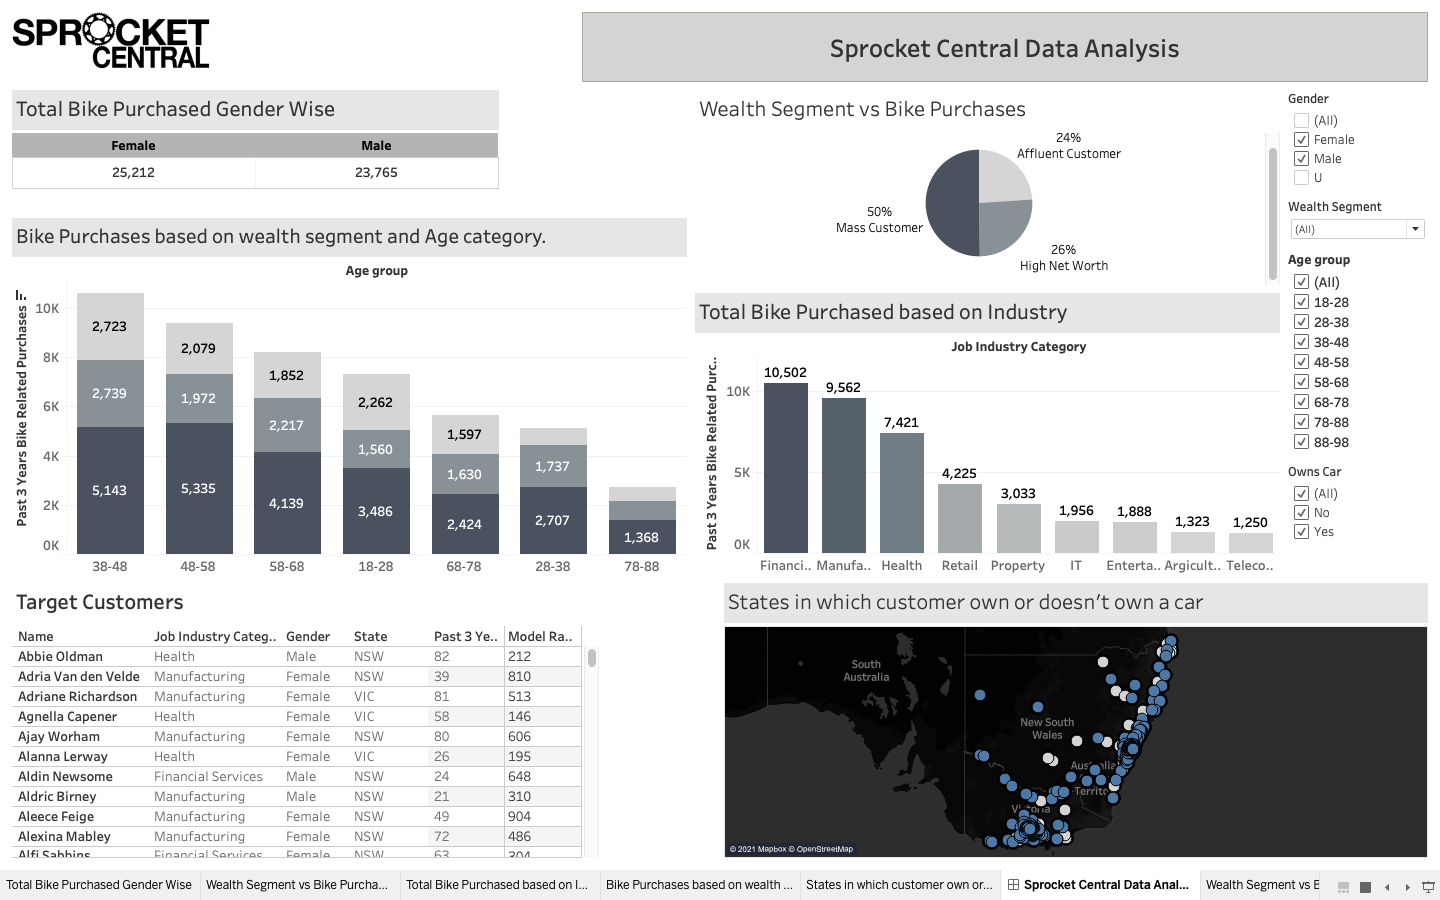

The dashboard page shown, as its layout file describes it:
{"tool":"tableau","page":{"name":"Sprocket Central Data Analysis","canvas":[1000,1000],"units":"permille","ordinal":0},"visuals":[{"type":"image","param":"/Users/sanjeevkulkarni/Downloads/sprocket_central_logo.png","box":[6.5,9.9,292.1,89.1]},{"type":"title","box":[298.6,9.9,694.9,89.1]},{"type":"worksheet","title":"Total Bike Purchased Gender Wise","mark":"Automatic","cols":["gender"],"box":[6.5,99,463.7,147.2]},{"type":"worksheet","title":"Wealth Segment vs Bike Purchases","mark":"Pie","box":[470.2,99,402.8,233.9]},{"type":"filter","title":"Total Bike Purchased Gender Wise","param":"[federated.18oul3g0qd69g010wdai21d3l7zf].[none:gender:nk]","box":[873.1,99,120.4,133.7]},{"type":"filter","title":"Wealth Segment vs Bike Purchases","param":"[federated.18oul3g0qd69g010wdai21d3l7zf].[none:wealth_segment:nk]","box":[873.1,232.6,120.4,64.4]},{"type":"worksheet","title":"Bike Purchases based on wealth segment and Age category.","mark":"Automatic","rows":["past_3_years_bike_related_purchases"],"cols":["Calculation_3366722260451831808"],"box":[6.5,246.2,463.7,419.6]},{"type":"filter","title":"Bike Purchases based on wealth segment and Age category.","param":"[federated.18oul3g0qd69g010wdai21d3l7zf].[none:Calculation_3366722260451831808:n","box":[873.1,297,120.4,258.7]},{"type":"worksheet","title":"Total Bike Purchased based on Industry","mark":"Automatic","rows":["past_3_years_bike_related_purchases"],"cols":["job_industry_category"],"box":[470.2,332.8,402.8,333]},{"type":"filter","title":"States in which customer own or doesn't own a car","param":"[federated.18oul3g0qd69g010wdai21d3l7zf].[none:owns_car:nk]","box":[873.1,555.6,120.4,110.2]},{"type":"worksheet","title":"Target Customers","mark":"Automatic","rows":["Calculation_3366722260576464897","job_industry_category","gender","state","past_3_years_bike_related_purchases"],"cols":["Calculation_3366722260577177603"],"box":[6.5,665.8,493.5,324.3]},{"type":"worksheet","title":"States in which customer own or doesn't own a car","mark":"Automatic","box":[500,665.8,493.5,324.3]}]}

Visuals, with their boxes on the dashboard's canvas, which has no fixed pixel size, in thousandths of its width and height (x1, y1, x2, y2). These are canvas units, not pixel positions in the 1440x900 screenshot, which may show the page scaled, cropped or inside an application window:
image: BBox(6, 10, 299, 99)
title: BBox(299, 10, 994, 99)
"Total Bike Purchased Gender Wise" worksheet: BBox(6, 99, 470, 246)
"Wealth Segment vs Bike Purchases" worksheet (Pie marks): BBox(470, 99, 873, 333)
"Total Bike Purchased Gender Wise" filter: BBox(873, 99, 994, 233)
"Wealth Segment vs Bike Purchases" filter: BBox(873, 233, 994, 297)
"Bike Purchases based on wealth segment and Age category." worksheet: BBox(6, 246, 470, 666)
"Bike Purchases based on wealth segment and Age category." filter: BBox(873, 297, 994, 556)
"Total Bike Purchased based on Industry" worksheet: BBox(470, 333, 873, 666)
"States in which customer own or doesn't own a car" filter: BBox(873, 556, 994, 666)
"Target Customers" worksheet: BBox(6, 666, 500, 990)
"States in which customer own or doesn't own a car" worksheet: BBox(500, 666, 994, 990)
